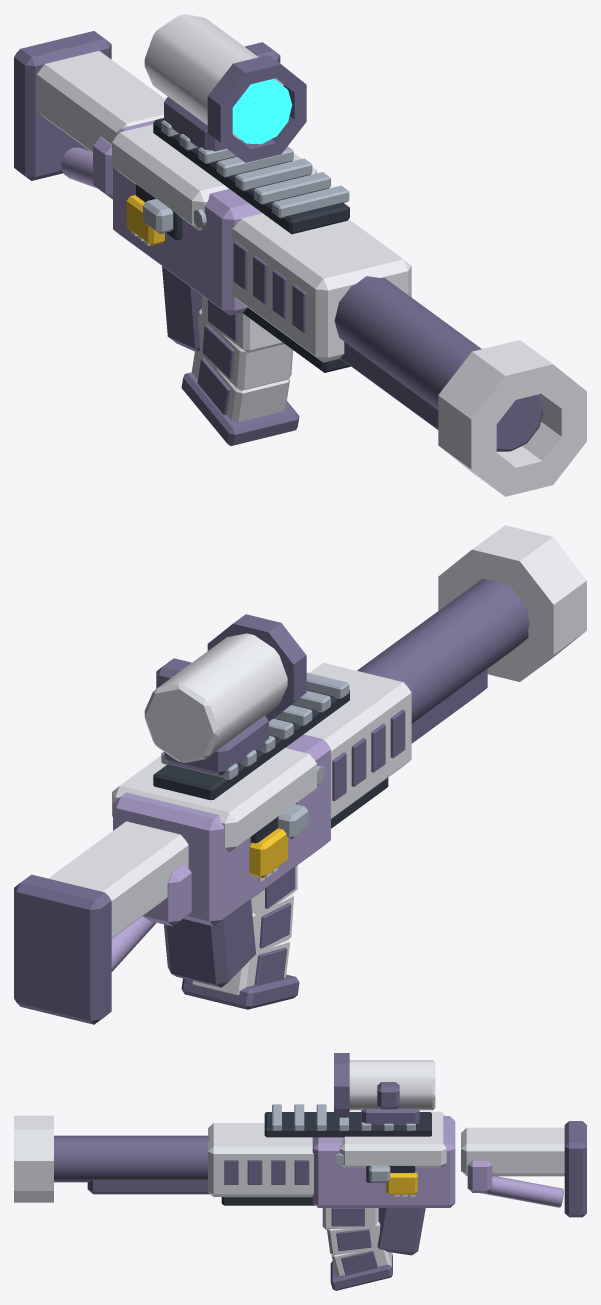
The model's file is Future_Sniper_v001.fbx.
The picture shows the model from 3 angles, top to bottom: view 1: azimuth 30°, elevation 25°; view 2: azimuth 150°, elevation 25°; view 3: azimuth 270°, elevation 25°; orthographic projection. The views are drawn at different scales.
Visible parts, largest first — view 1: Future_Sniper__RECEIVER_MESH, Future_Sniper__MAGAZINE_MESH; view 2: Future_Sniper__RECEIVER_MESH, Future_Sniper__MAGAZINE_MESH; view 3: Future_Sniper__RECEIVER_MESH, Future_Sniper__MAGAZINE_MESH.
Boxes of the visible parts, x1=… form: Future_Sniper__RECEIVER_MESH: x1=14, y1=14, x2=586, y2=496; Future_Sniper__MAGAZINE_MESH: x1=181, y1=295, x2=299, y2=446; Future_Sniper__RECEIVER_MESH: x1=14, y1=525, x2=586, y2=1024; Future_Sniper__MAGAZINE_MESH: x1=181, y1=865, x2=299, y2=1009; Future_Sniper__RECEIVER_MESH: x1=14, y1=1053, x2=586, y2=1255; Future_Sniper__MAGAZINE_MESH: x1=322, y1=1208, x2=392, y2=1290.
Size of the model in its own units: 0.475 by 1.11 by 2.57.
